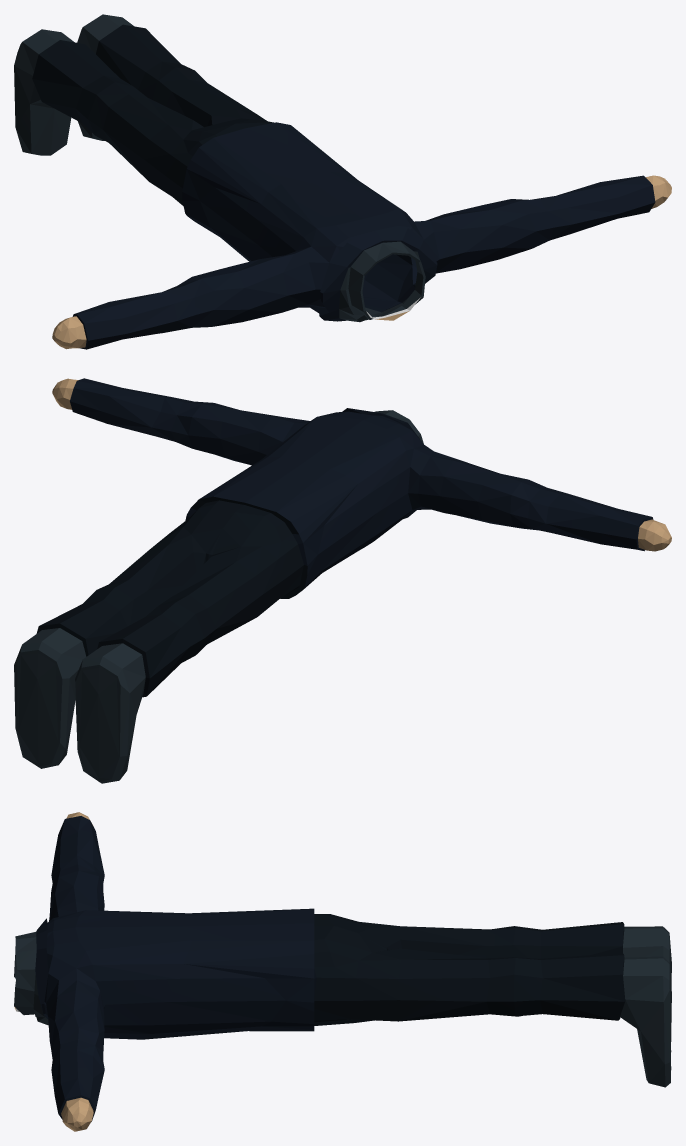
Rendered from LighthouseKeeper.glb.
3 views of the same model, one above another, from view 1: azimuth 30°, elevation 25°; view 2: azimuth 150°, elevation 25°; view 3: azimuth 270°, elevation 25° (orthographic).
Visible parts, largest first — view 1: LighthouseKeeper; view 2: LighthouseKeeper; view 3: LighthouseKeeper.
Boxes of the visible parts, x1,y1,x2,y2 form: LighthouseKeeper: (14,14,671,349); LighthouseKeeper: (14,378,671,783); LighthouseKeeper: (14,812,671,1131).
Size of the model in its own units: 1.21 by 0.2758 by 1.11.
Materials: 1 (1 with a texture image).
